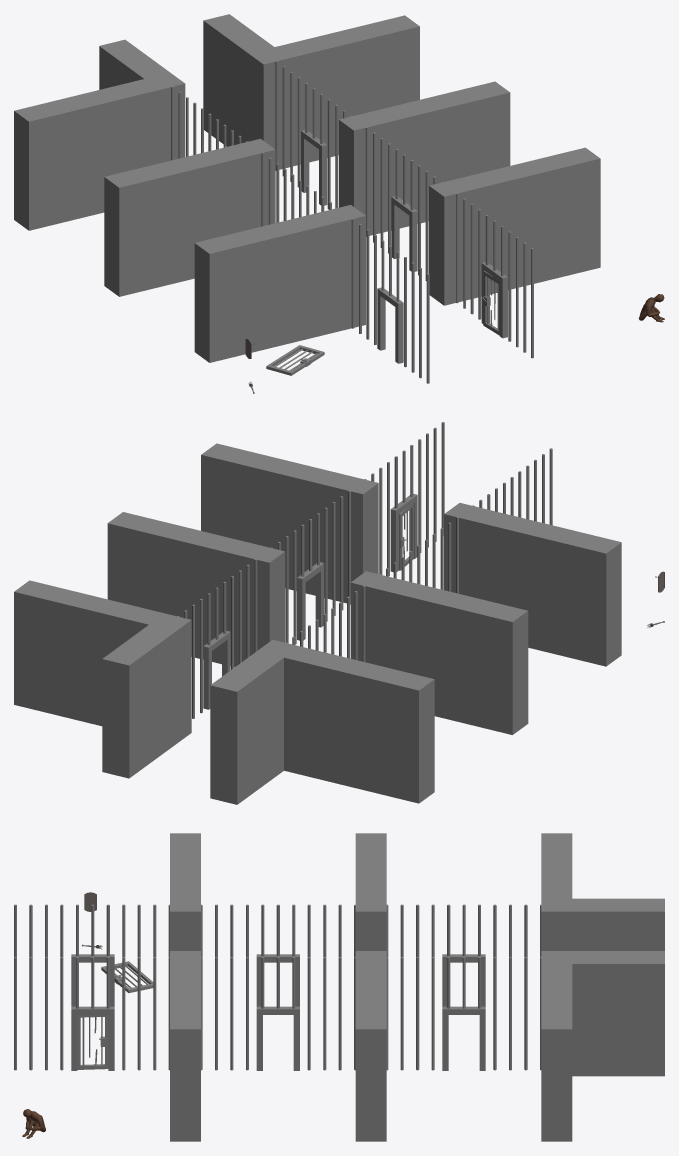
Rendered from dungeon_cell.gltf.
3 views of the same model, one above another, from view 1: azimuth 30°, elevation 25°; view 2: azimuth 150°, elevation 25°; view 3: azimuth 270°, elevation 25° (orthographic). The views are drawn at different scales.
Parts seen in each view (by area): view 1: Walls, Bars5, Bars6, Bars4, Bars2, Bars1, Bars3, Cube.002, BrokenDoor; view 2: Walls, Bars2, Bars6, Bars4, Bars1, Bars3, Bars5, BrokenDoor; view 3: Walls, Bars6, Bars4, Bars2, Bars3, Bars5, Bars1, BrokenDoor, Cube.002.
Boxes of the visible parts, x1=… form: Walls: x1=14, y1=14, x2=600, y2=362; Bars5: x1=351, y1=219, x2=429, y2=383; Bars6: x1=456, y1=193, x2=533, y2=358; Bars4: x1=275, y1=61, x2=352, y2=209; Bars2: x1=365, y1=127, x2=442, y2=280; Bars1: x1=261, y1=152, x2=338, y2=226; Bars3: x1=171, y1=86, x2=248, y2=160; Cube.002: x1=266, y1=345, x2=324, y2=375; BrokenDoor: x1=482, y1=271, x2=499, y2=335; Walls: x1=14, y1=443, x2=621, y2=804; Bars2: x1=270, y1=490, x2=350, y2=644; Bars6: x1=364, y1=422, x2=444, y2=575; Bars4: x1=177, y1=559, x2=257, y2=718; Bars1: x1=378, y1=517, x2=458, y2=593; Bars3: x1=285, y1=585, x2=365, y2=661; Bars5: x1=472, y1=448, x2=552, y2=525; BrokenDoor: x1=399, y1=503, x2=413, y2=570; Walls: x1=170, y1=833, x2=664, y2=1141; Bars6: x1=14, y1=957, x2=171, y2=1070; Bars4: x1=385, y1=957, x2=541, y2=1070; Bars2: x1=199, y1=957, x2=356, y2=1070; Bars3: x1=386, y1=904, x2=542, y2=1006; Bars5: x1=14, y1=904, x2=171, y2=1006; Bars1: x1=200, y1=904, x2=356, y2=1006; BrokenDoor: x1=77, y1=1015, x2=108, y2=1069; Cube.002: x1=101, y1=961, x2=153, y2=992.
Size of the model in its own units: 15 by 4.03 by 21.04.
Materials: 4 (1 with a texture image).
